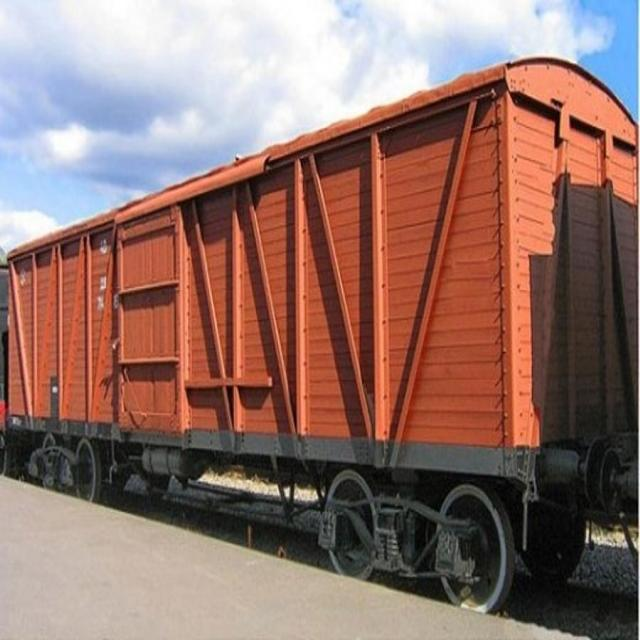boxcar: (0, 44, 640, 618)
